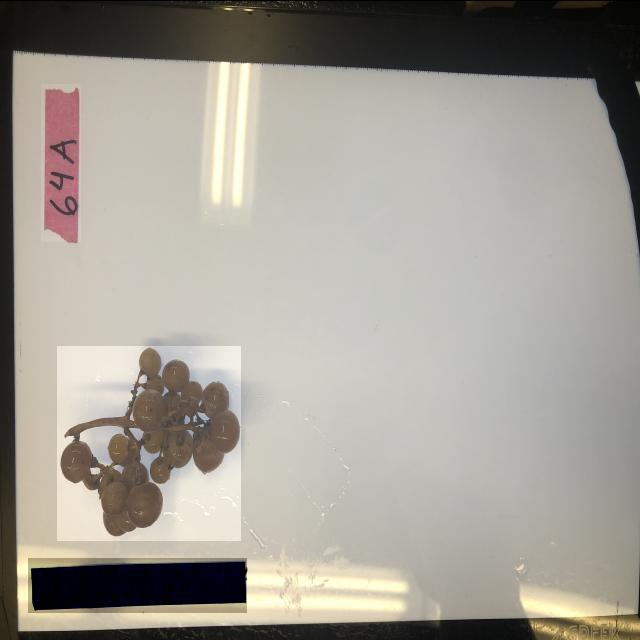grape_cluster: (57, 345, 241, 540)
index: (41, 83, 81, 241)
measure_label: (28, 557, 247, 612)
